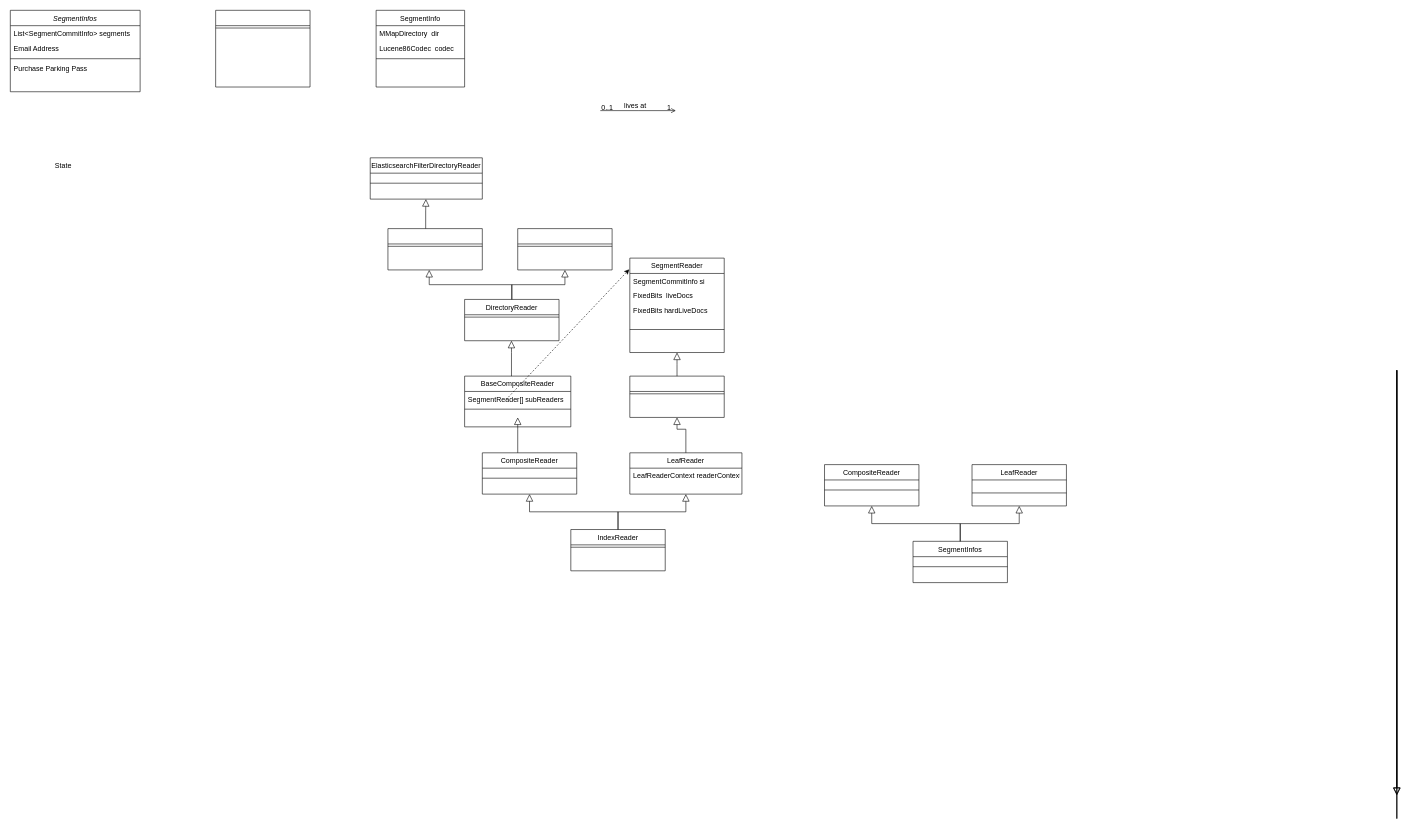
Image size: 1414x836. Some labels were removed from this diagram. Here are the shapes that lost their labels. From the top down, the centre of each, then its label:
(x=262, y=48): SegmentCommitInfo
(x=434, y=249): FilterDirectoryReader
(x=564, y=249): StandardDirectoryReader
(x=676, y=396): CodecReader
